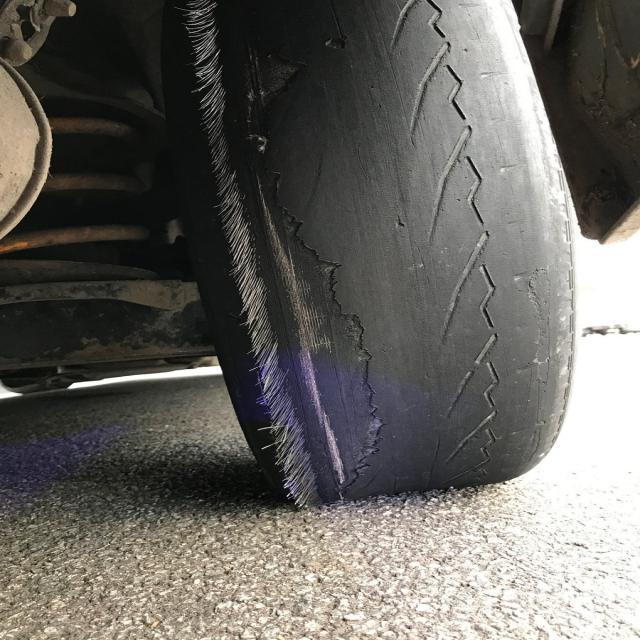Flat spots: (261, 4, 510, 493)
